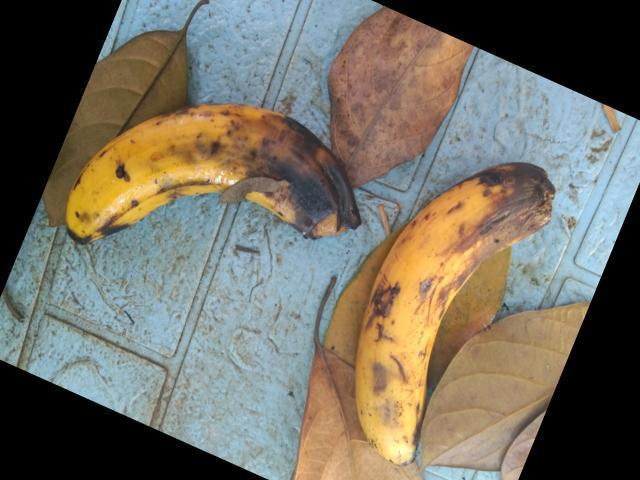overripe: (345, 230, 460, 472), (45, 107, 224, 258)
rotten: (413, 124, 567, 321), (189, 88, 357, 251)
